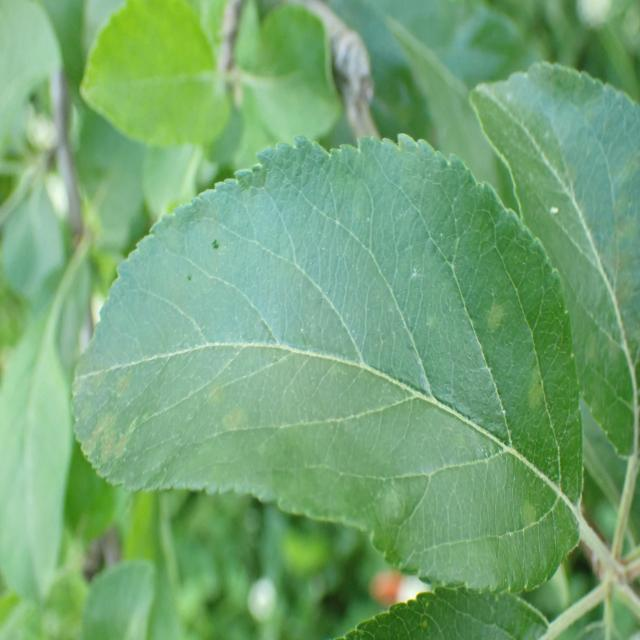scab: (51, 289, 575, 568)
